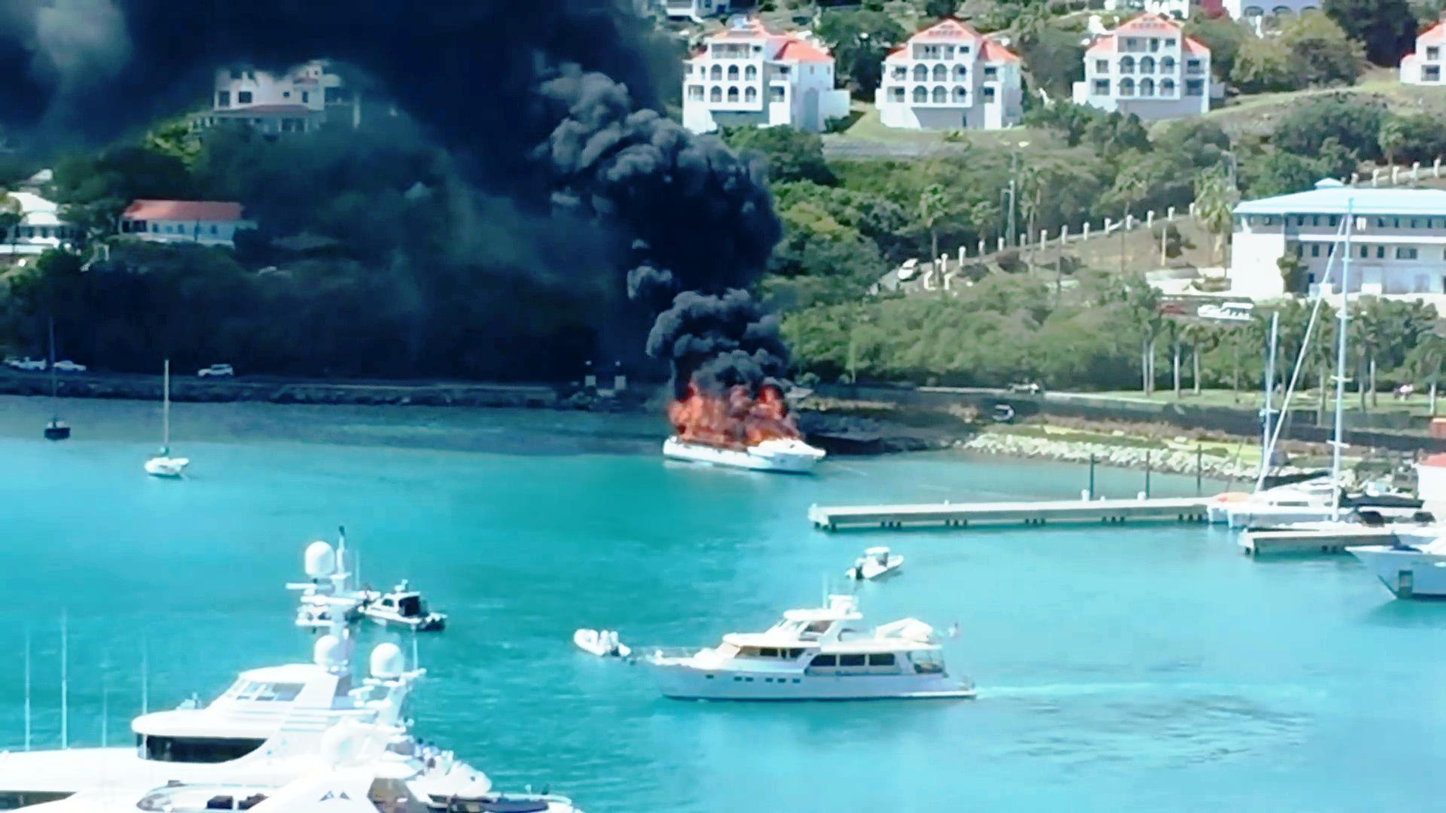smoke: (364, 0, 593, 179), (590, 76, 782, 261), (644, 250, 793, 403)
